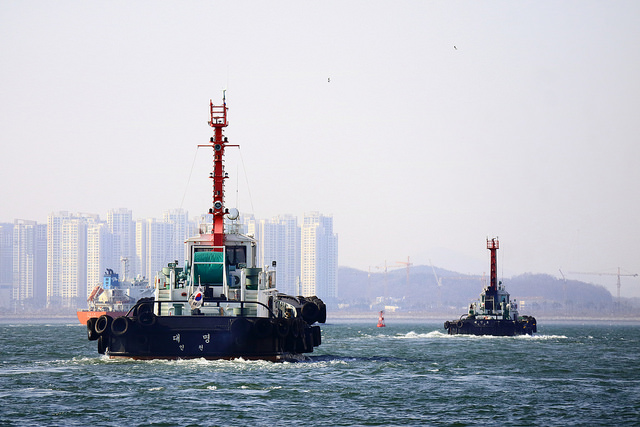tug_boat: (80, 164, 332, 363), (448, 234, 544, 345)
